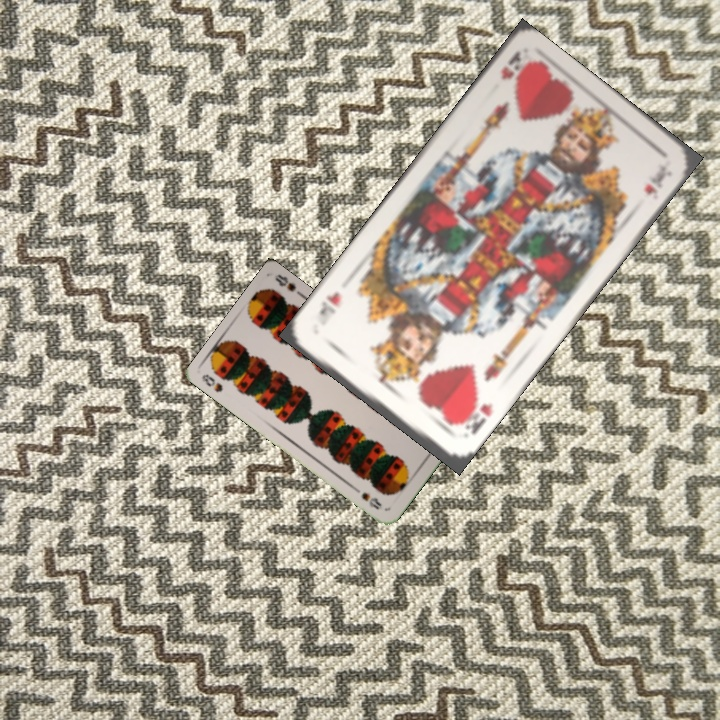HK: (453, 394, 496, 437), (496, 47, 532, 82)
S8: (198, 370, 225, 395)
